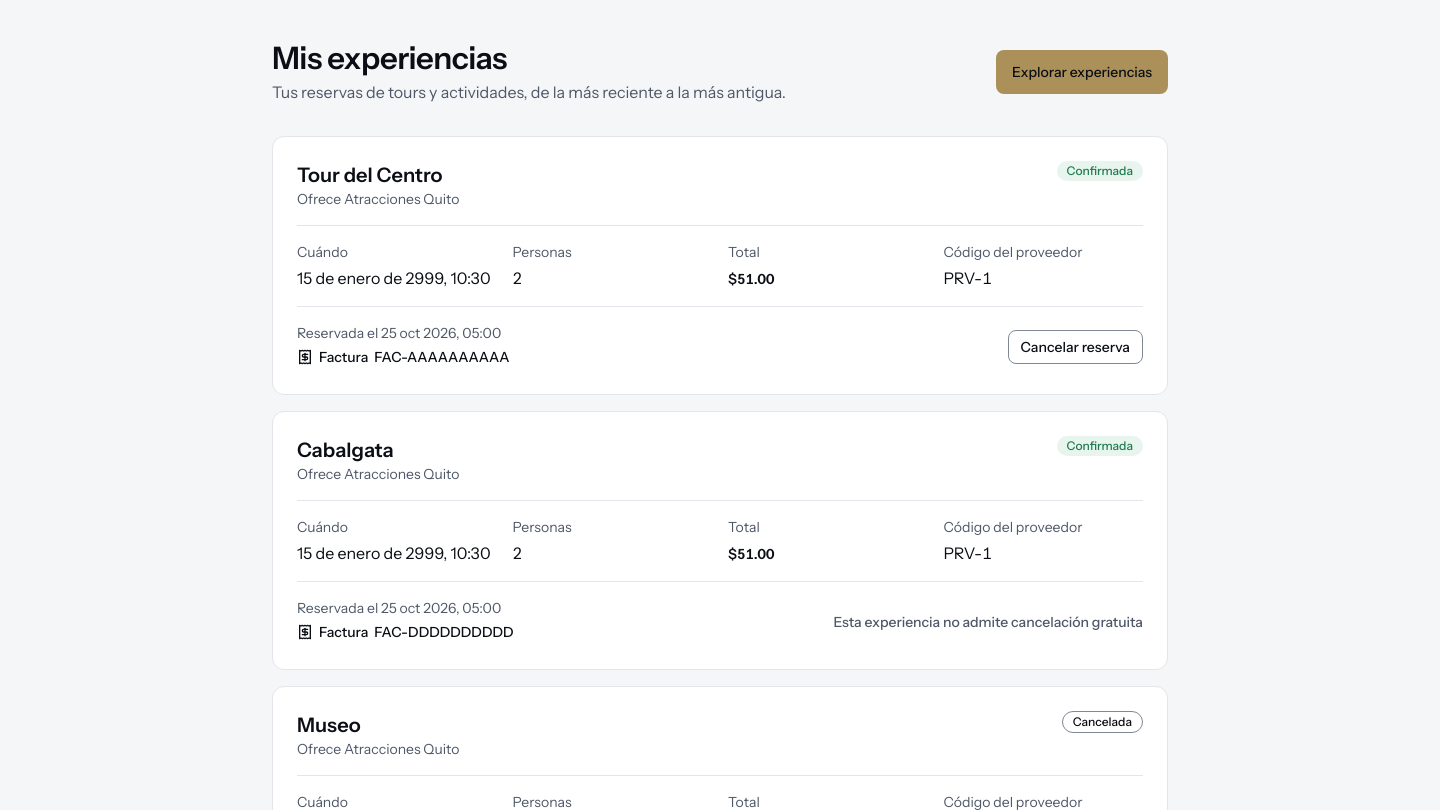
Test: MyExperiencesPage › cancels with confirmation and an Idempotency-Key, then shows the refund notice
This screenshot has width=1440, height=810.
Click the button with aria-label "Cancelar la reserva de Tour del Centro": (1075,346) [1008,330,1143,364]
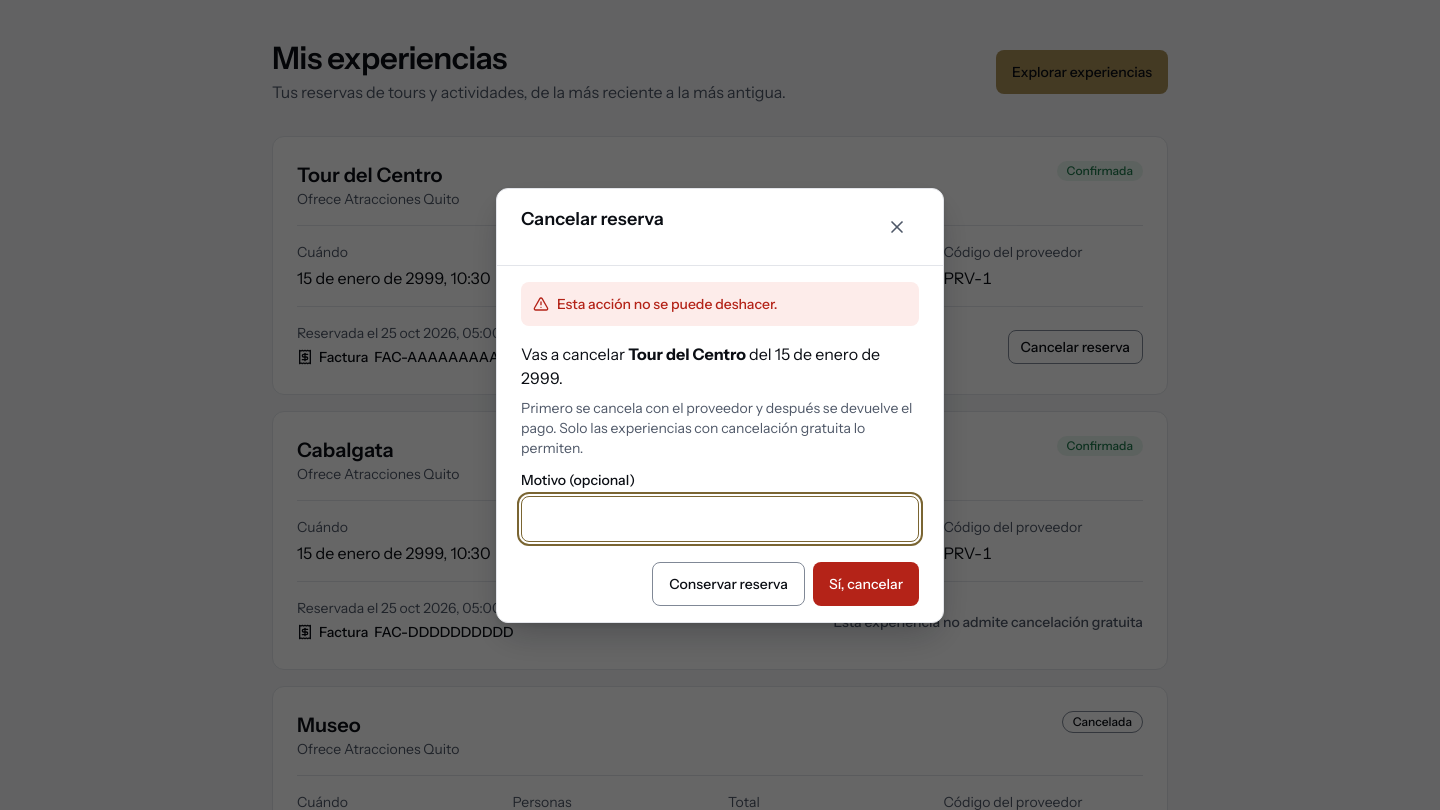
In the field labelled "Motivo (opcional)": (720,518) [521,496,919,542], type "Cambio de planes"
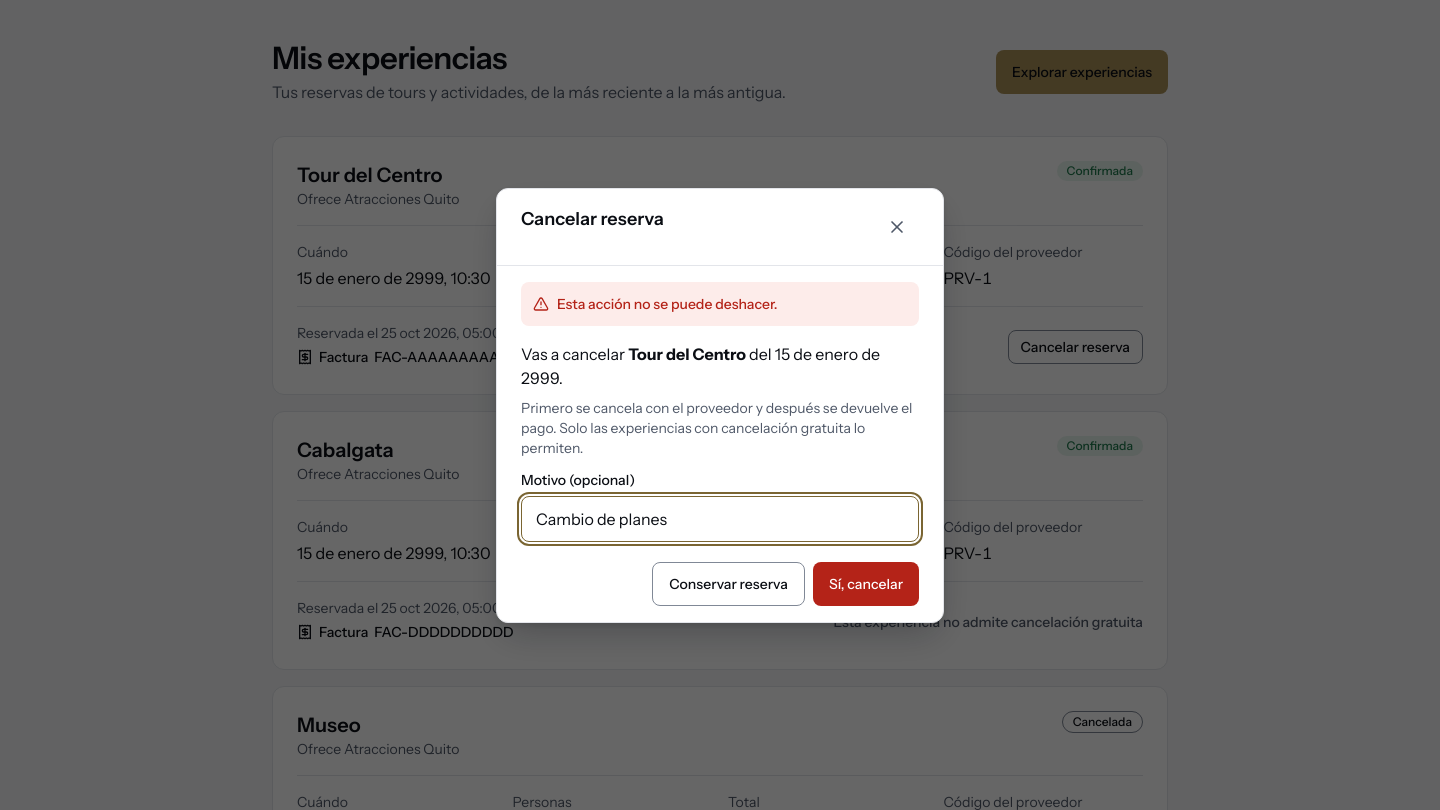
Click the button "Sí, cancelar": (866,584) [813,562,919,606]
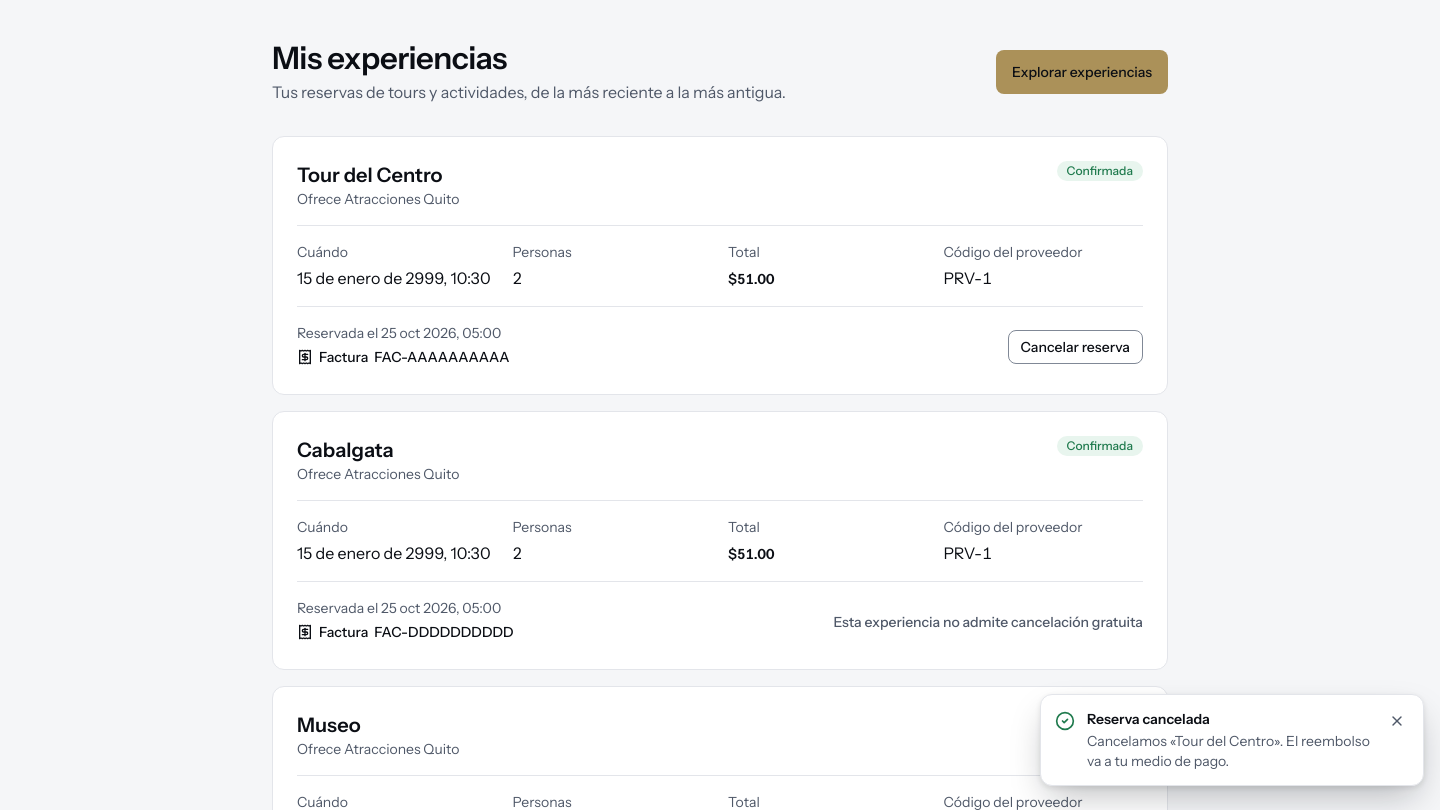
Now the dialog is gone
Now the text "Cancelamos «Tour del Centro»" is shown, box [1087,732,1370,770]
